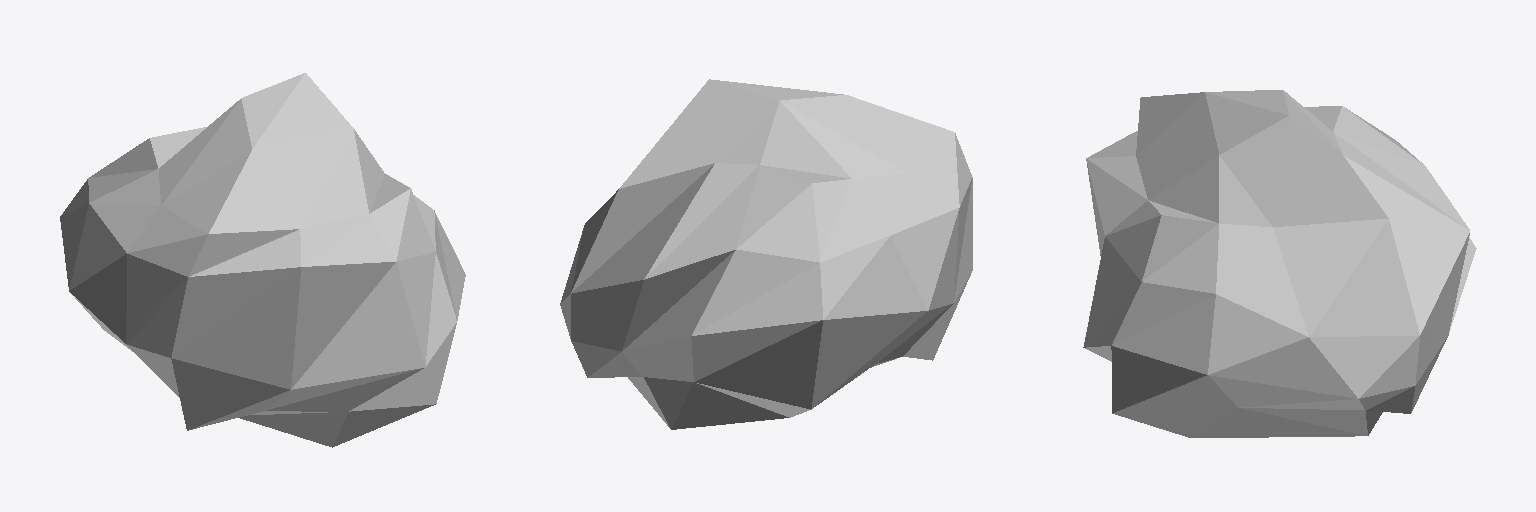
The model's file is Asteroid2.obj.
3 renders of one model, left to right at view 1: azimuth 30°, elevation 25°; view 2: azimuth 150°, elevation 25°; view 3: azimuth 270°, elevation 25°, orthographic.
Parts seen in each view (by area): view 1: Asteroid1; view 2: Asteroid1; view 3: Asteroid1.
Boxes of the visible parts, box(x1,y1,x2,y2) form: Asteroid1: box(60, 73, 465, 447); Asteroid1: box(560, 79, 972, 429); Asteroid1: box(1083, 90, 1476, 437).
Size of the model in its own units: 2.05 by 1.88 by 2.01.